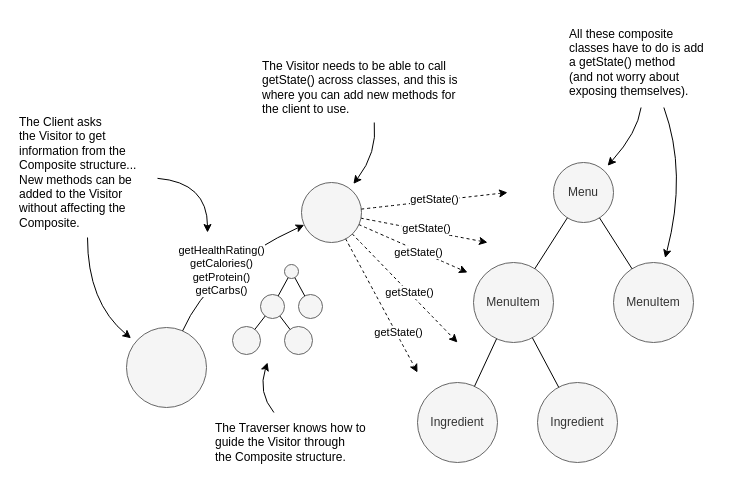
Image size: 744x489. Some labels were removed from this diagram. The shapes that lost their labels are listed below. From the top down, each one's centre as x and y in pixels, then its label:
At pixel 331 212: "Visitor".
At pixel 166 367: "Client / Traverser".
